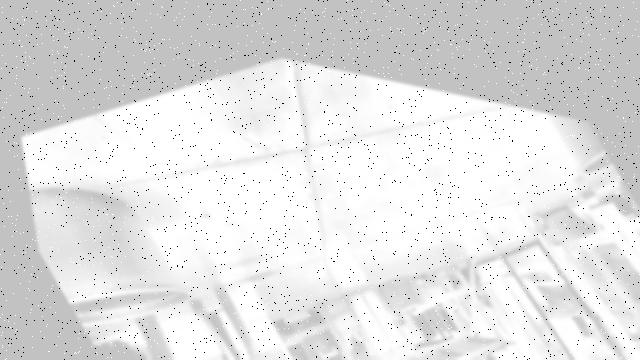pot: (29, 187, 192, 325), (546, 113, 613, 174)
